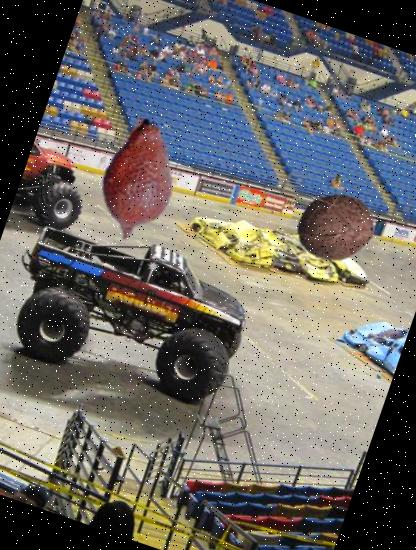Cocos: (284, 176, 388, 279)
Salak: (58, 101, 218, 261)
